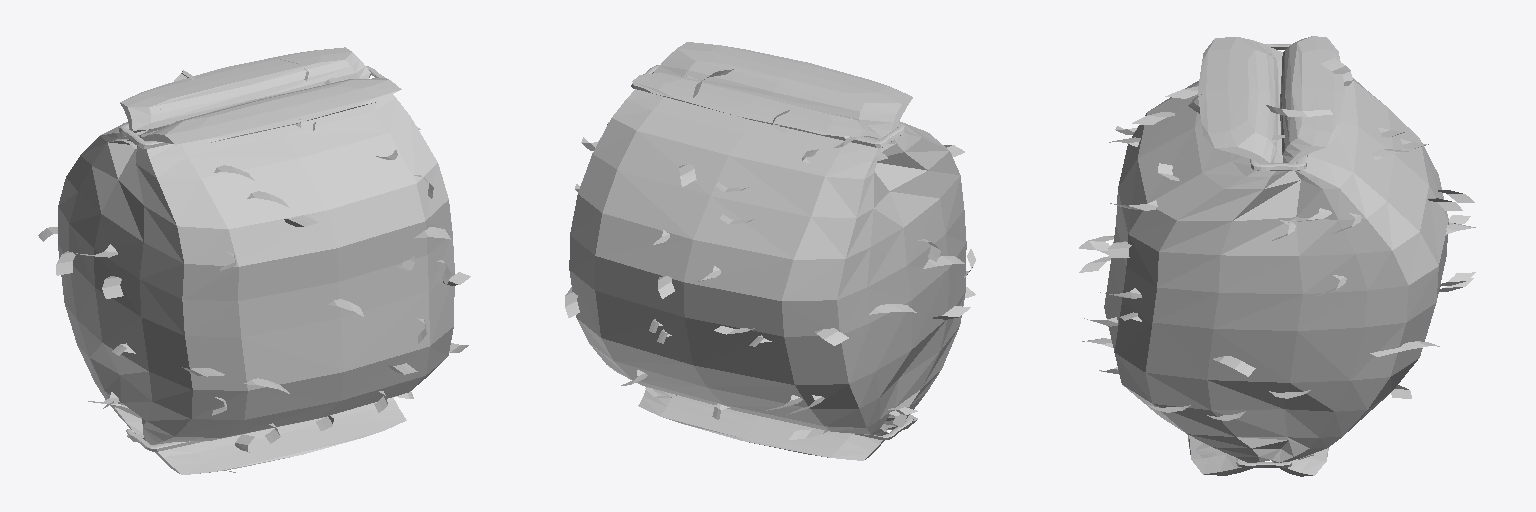
The model's file is ssal.obj.
The picture shows the model from 3 angles: view 1: azimuth 30°, elevation 25°; view 2: azimuth 150°, elevation 25°; view 3: azimuth 270°, elevation 25°; orthographic projection.
Parts seen in each view (by area): view 1: SM_Mado_Ricebag; view 2: SM_Mado_Ricebag; view 3: SM_Mado_Ricebag.
Part boxes in pixels (x1,y1,x2,y2): SM_Mado_Ricebag: (38, 47, 470, 474); SM_Mado_Ricebag: (565, 42, 975, 460); SM_Mado_Ricebag: (1079, 36, 1475, 476).
Bounding box in the file's own units: 2.12 × 2.03 × 2.13.